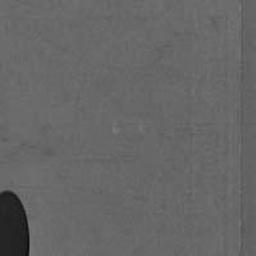Punching: (0, 189, 31, 256)
